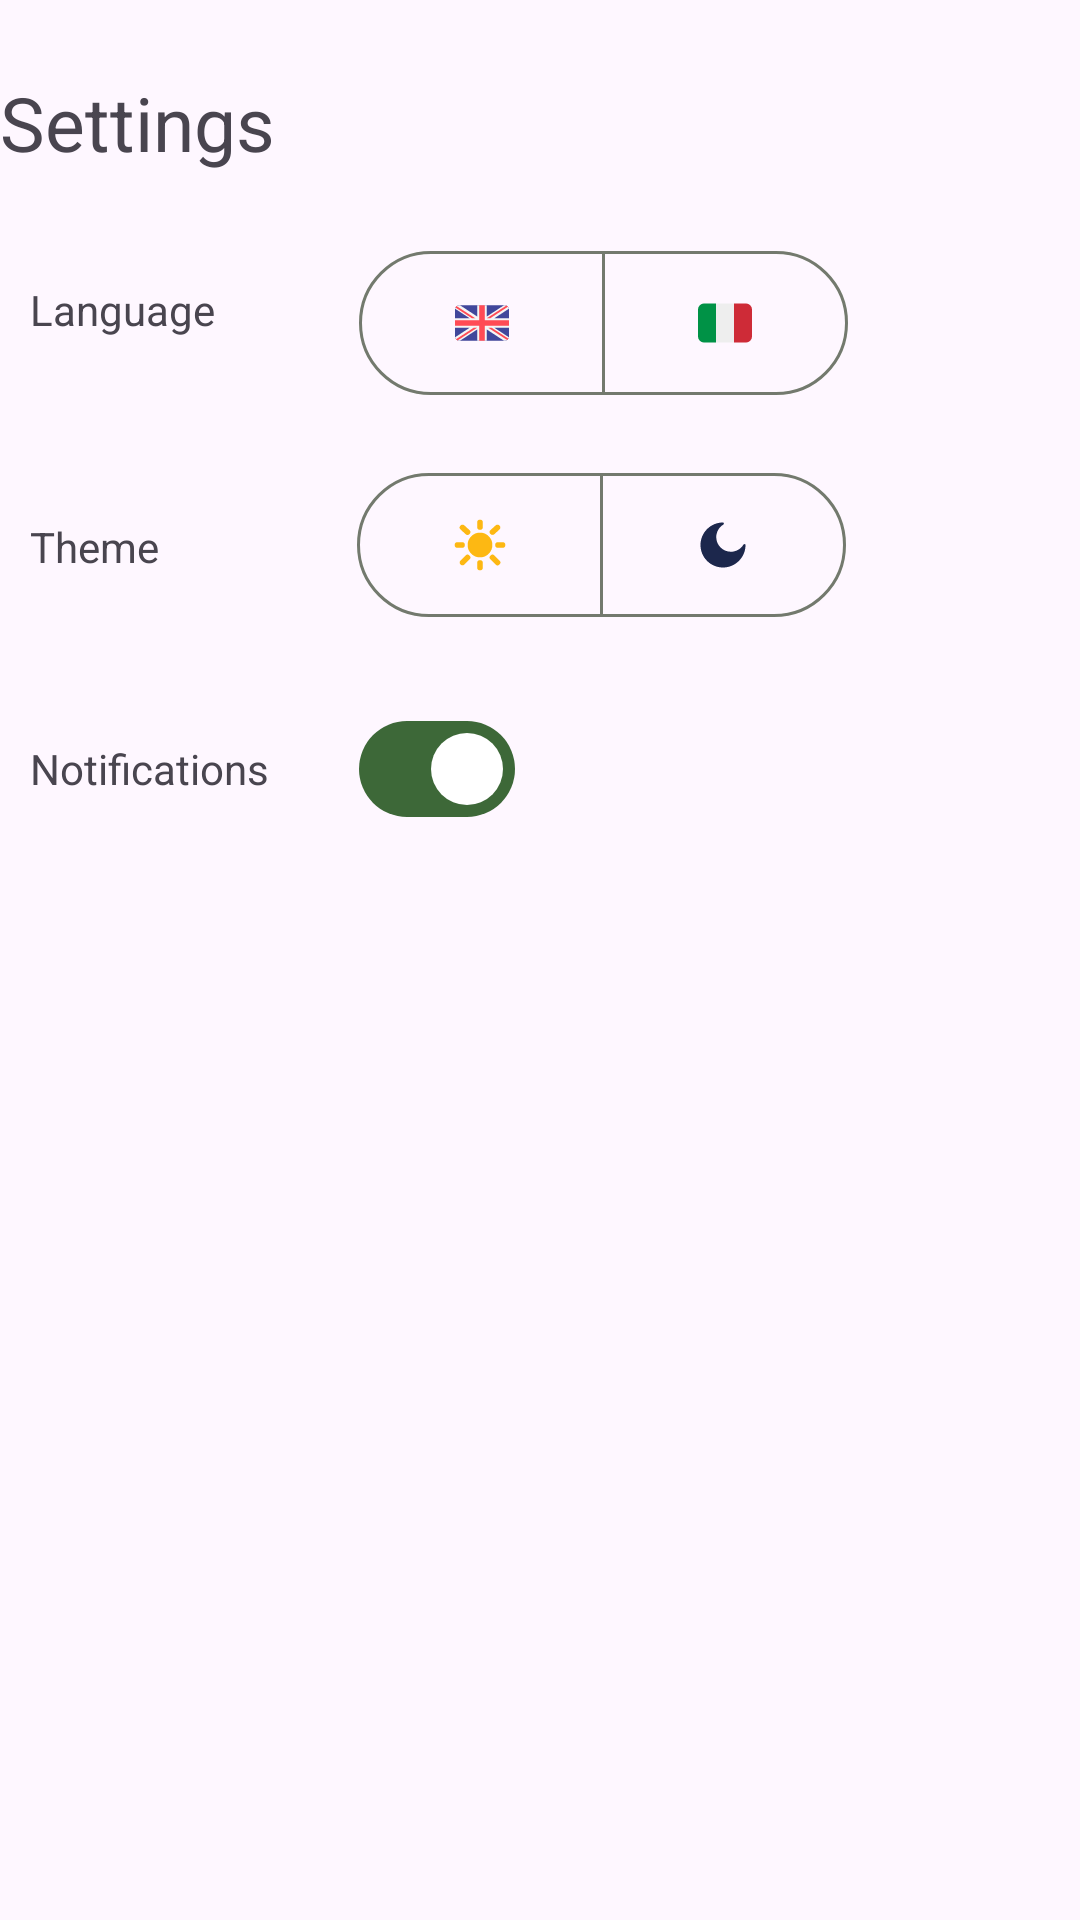

Named icons in this screenshot (1080*1920) and their bounding boxes, [left=x1, top=y1, right=x2, bottom=y2]:
english: [left=359, top=251, right=605, bottom=395]
italian: [left=602, top=251, right=848, bottom=395]
moon: [left=600, top=473, right=846, bottom=617]
sun: [left=357, top=473, right=603, bottom=617]
